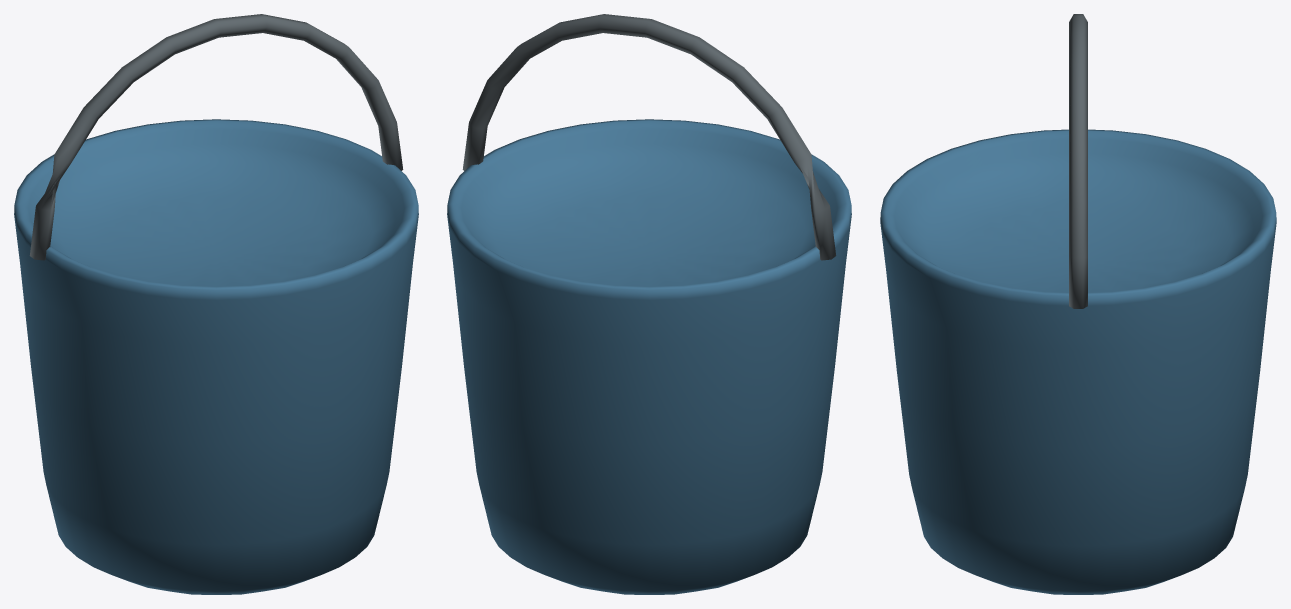
File: bucket.glb
The picture shows the model from 3 angles, left to right: view 1: azimuth 30°, elevation 25°; view 2: azimuth 150°, elevation 25°; view 3: azimuth 270°, elevation 25°; orthographic projection. The views are drawn at different scales.
Parts seen in each view (by area): view 1: Bucket_Body, Bucket_Handle; view 2: Bucket_Body, Bucket_Handle; view 3: Bucket_Body, Bucket_Handle.
Part boxes in pixels (left/top/right/bottom): Bucket_Body: left=14, top=119, right=418, bottom=594; Bucket_Handle: left=29, top=14, right=403, bottom=260; Bucket_Body: left=447, top=119, right=851, bottom=594; Bucket_Handle: left=462, top=14, right=836, bottom=260; Bucket_Body: left=880, top=129, right=1276, bottom=594; Bucket_Handle: left=1069, top=14, right=1087, bottom=308.
Bounding box in the file's own units: 0.3537 × 0.4769 × 0.3363.
